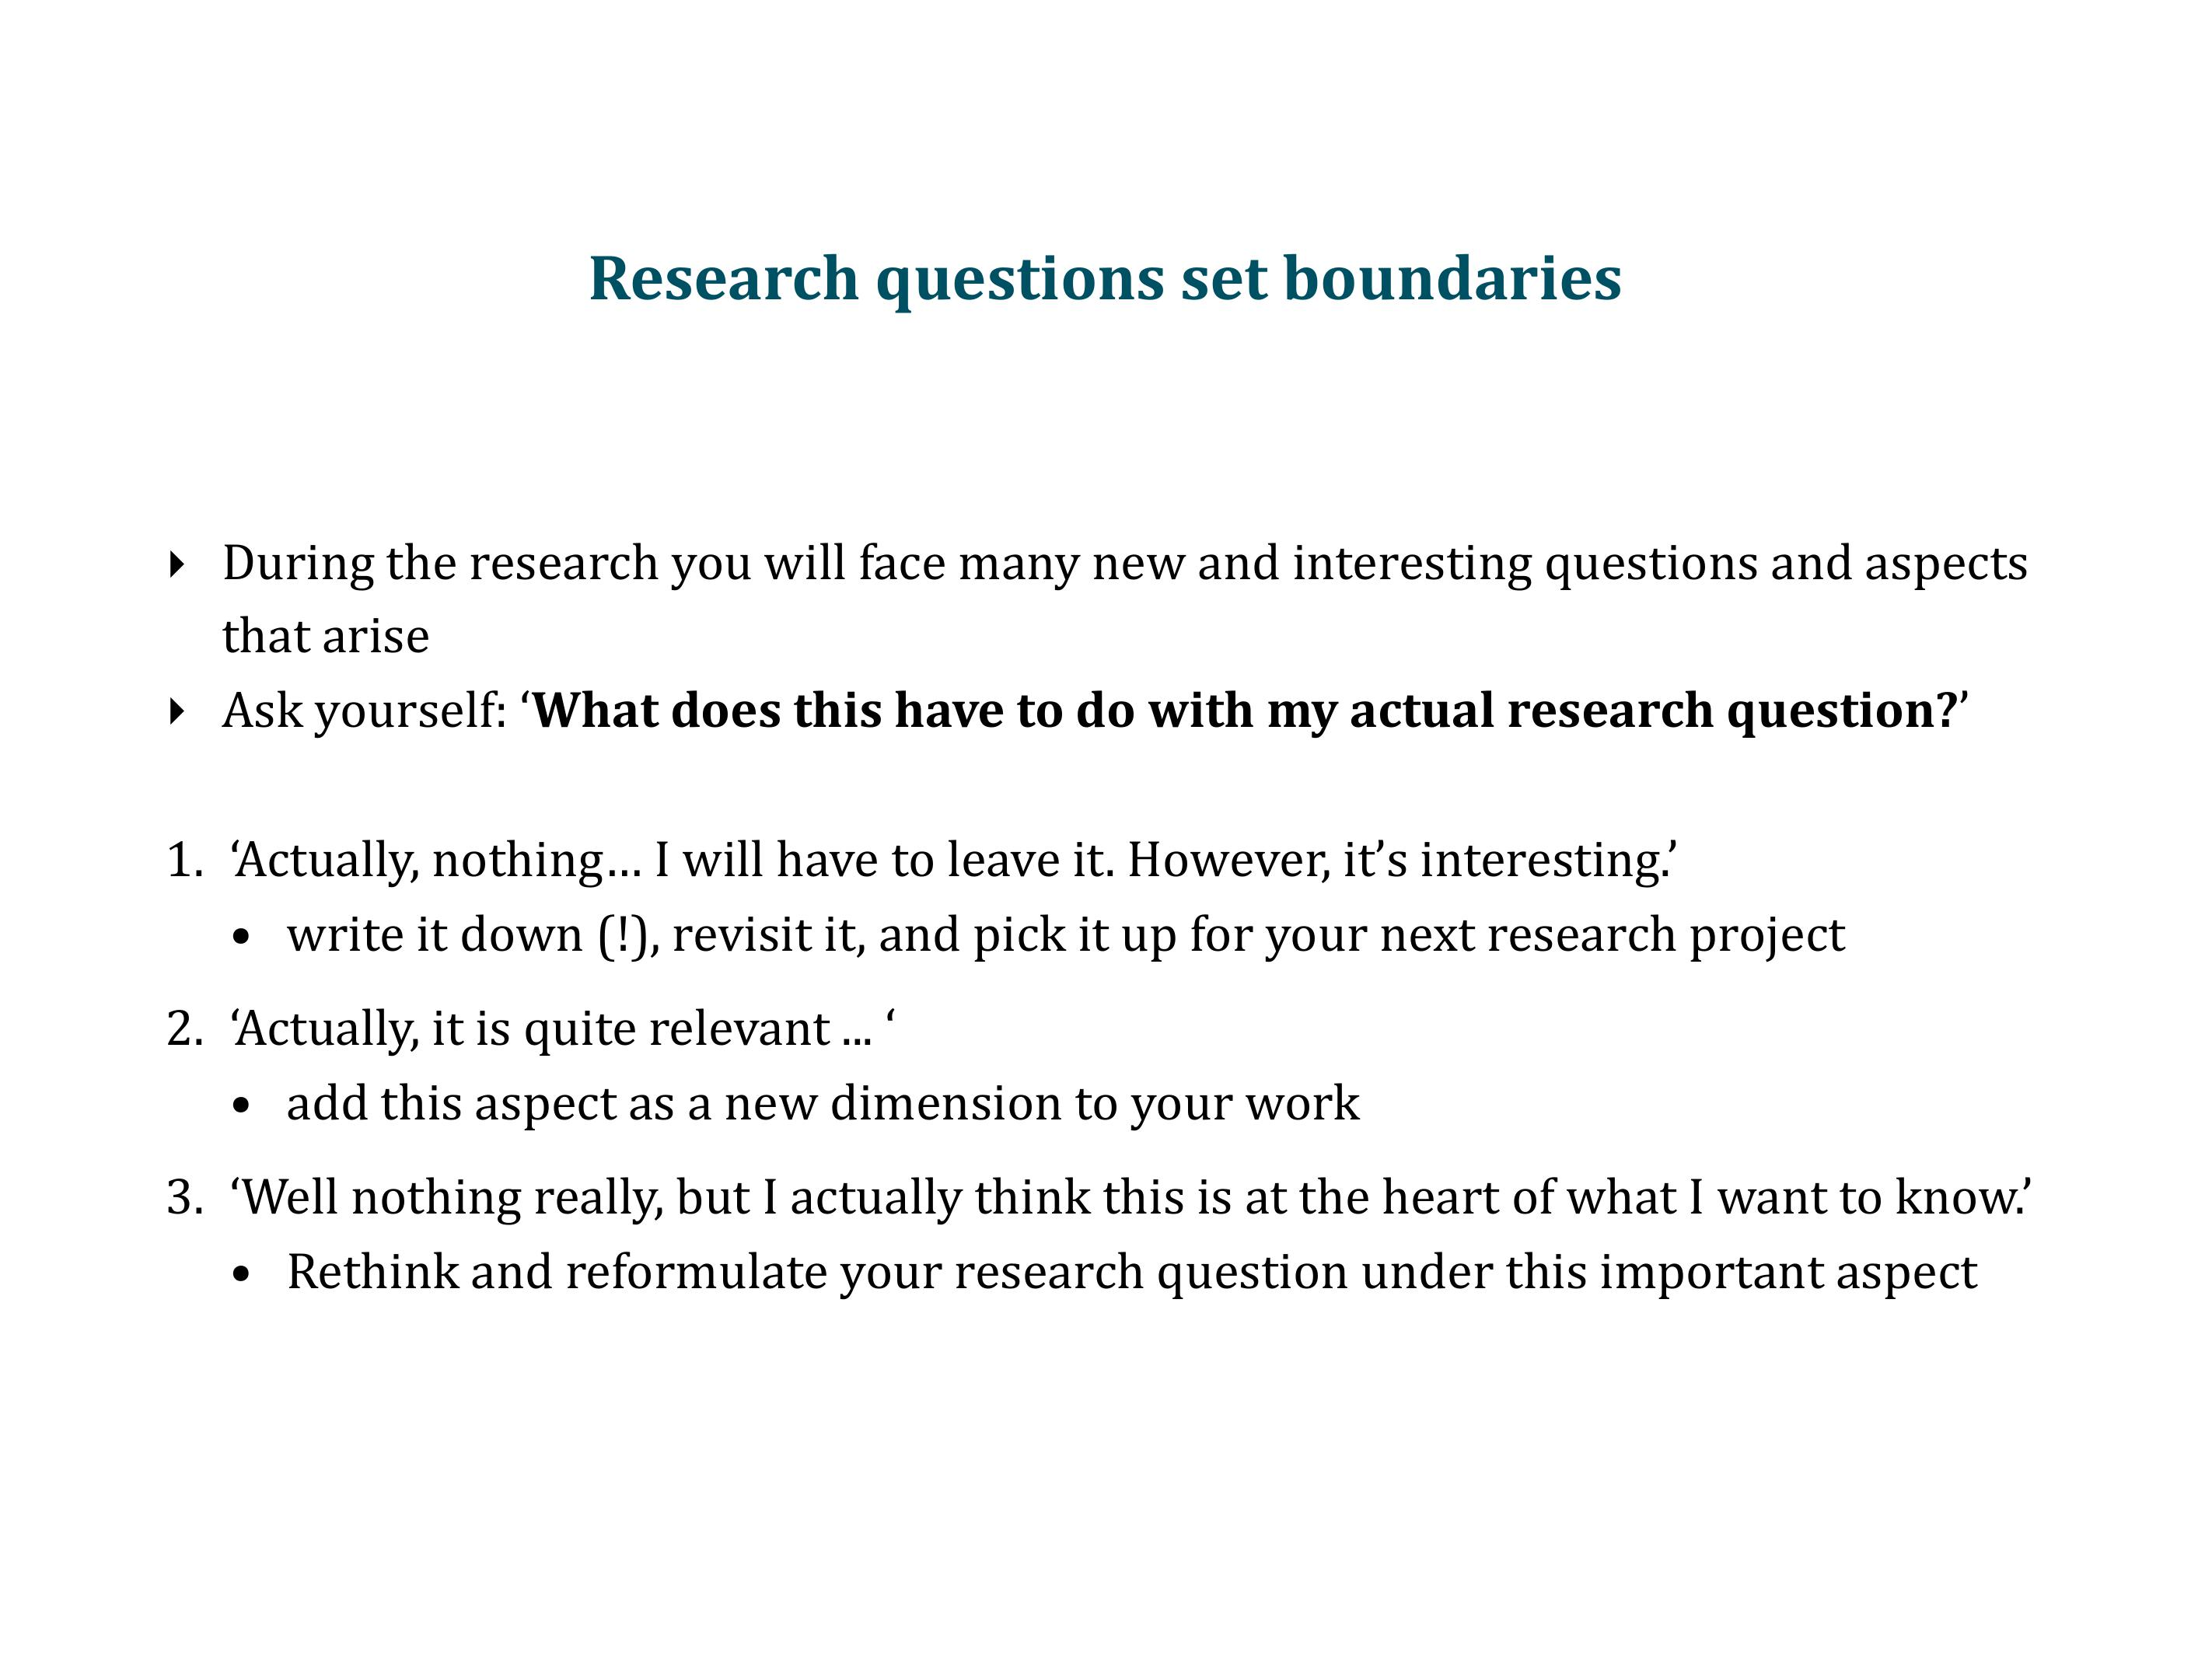Title: (573, 230, 1647, 322)
